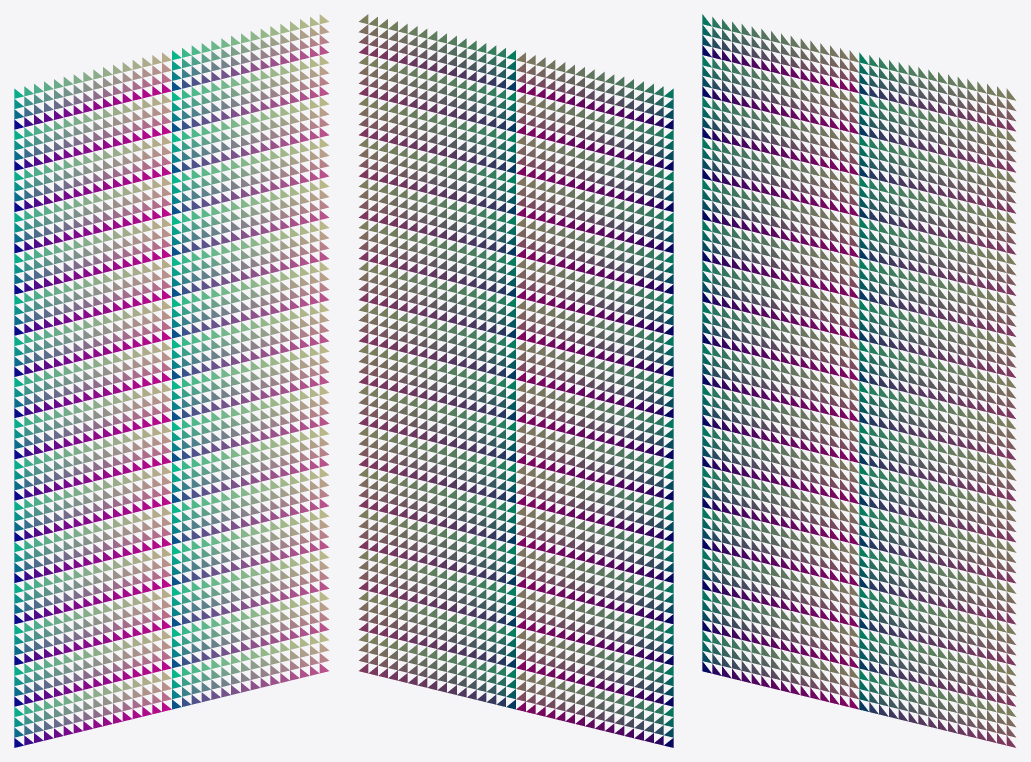
File: Draw-heavy.glb
The picture shows the model from 3 angles, left to right: view 1: azimuth 30°, elevation 25°; view 2: azimuth 150°, elevation 25°; view 3: azimuth 330°, elevation 25°; orthographic projection.
Size of the model in its own units: 32 by 64 by 0.
